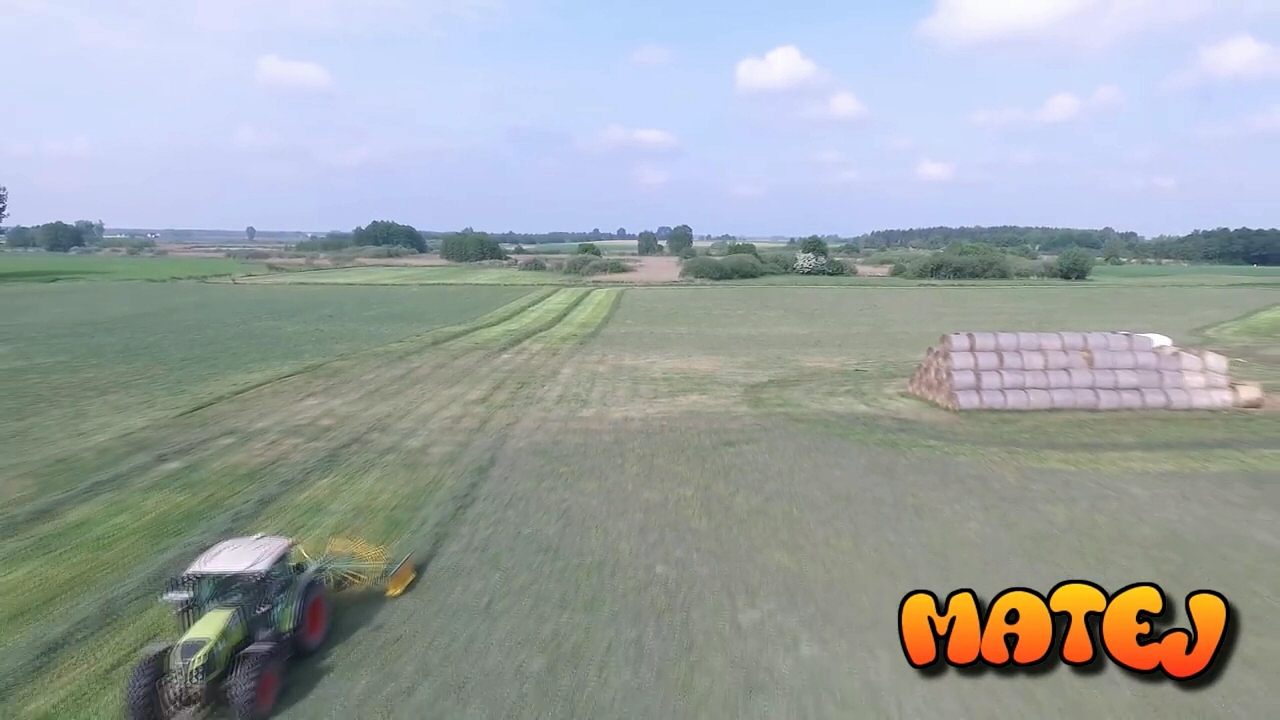traktor: (116, 532, 339, 720)
